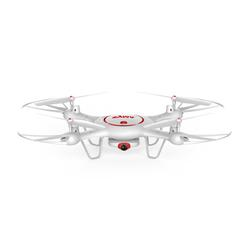drone: (18, 90, 234, 161)
